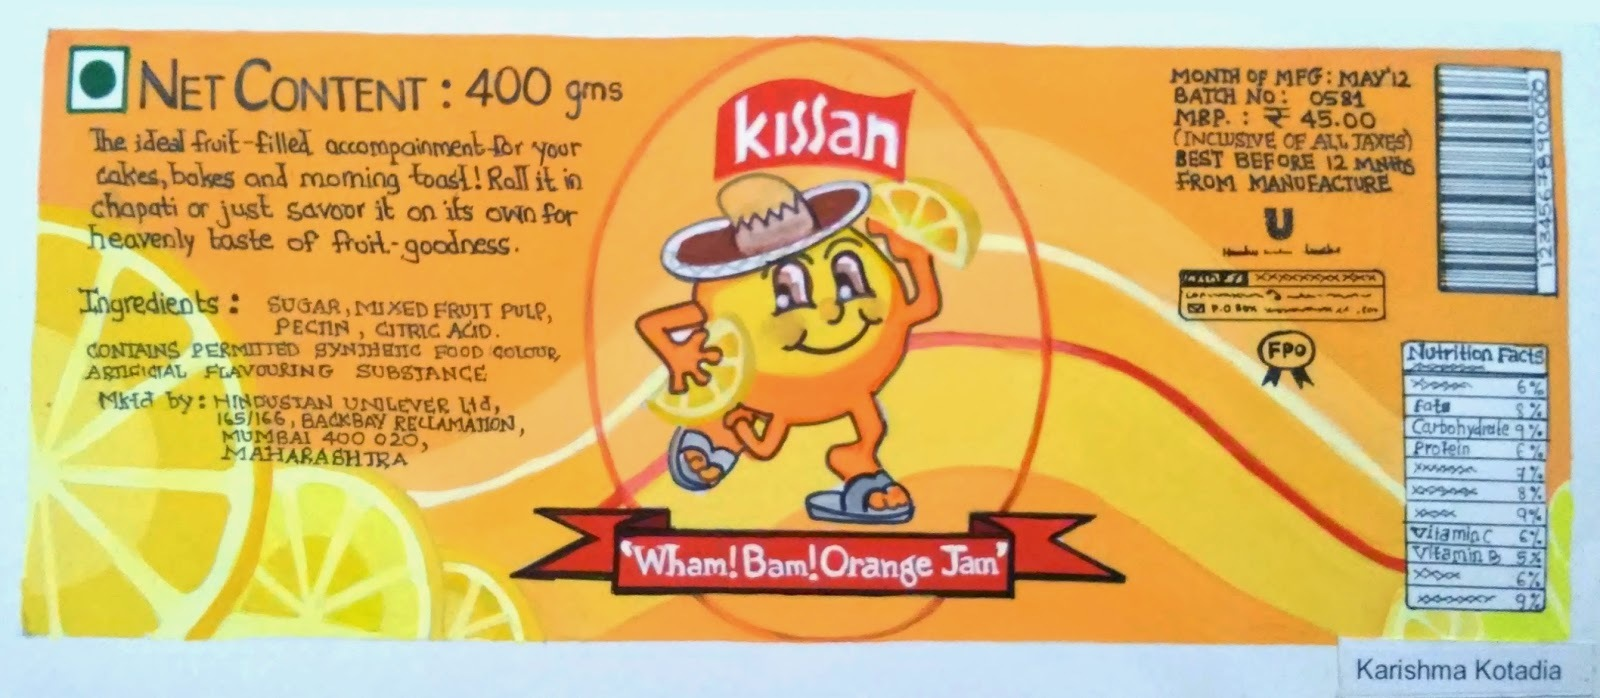VEG: (67, 41, 129, 116)
